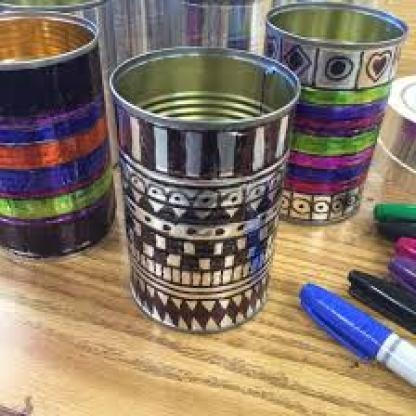trash: (111, 48, 298, 331), (266, 3, 407, 223), (0, 11, 113, 256)
